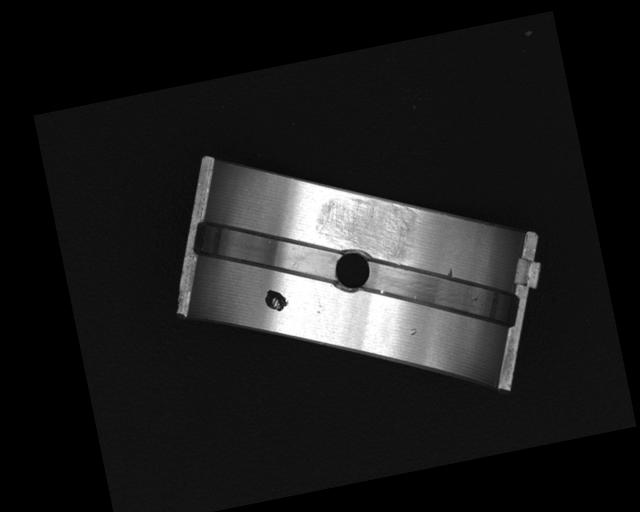blot: (261, 285, 290, 314)
bruise: (444, 267, 456, 281), (408, 326, 418, 337)
gap: (353, 230, 518, 356), (187, 186, 349, 311)
hole: (327, 244, 380, 298)
scratch: (307, 181, 425, 280)
